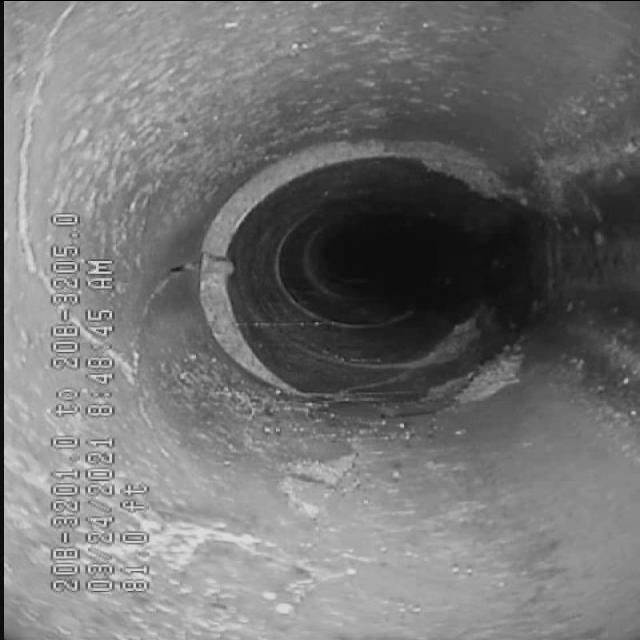Crack: (0, 65, 152, 369)
